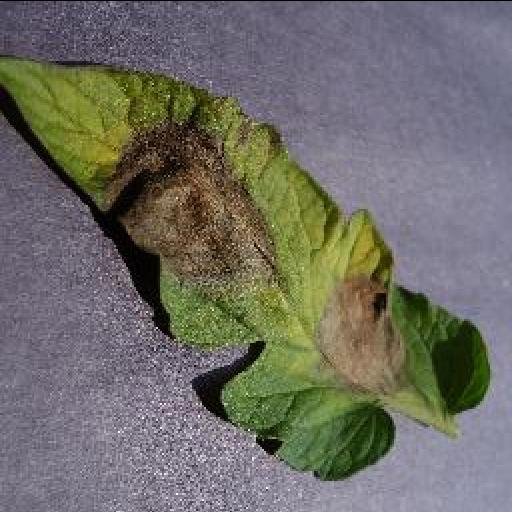disease_tomato: (0, 52, 488, 480)
